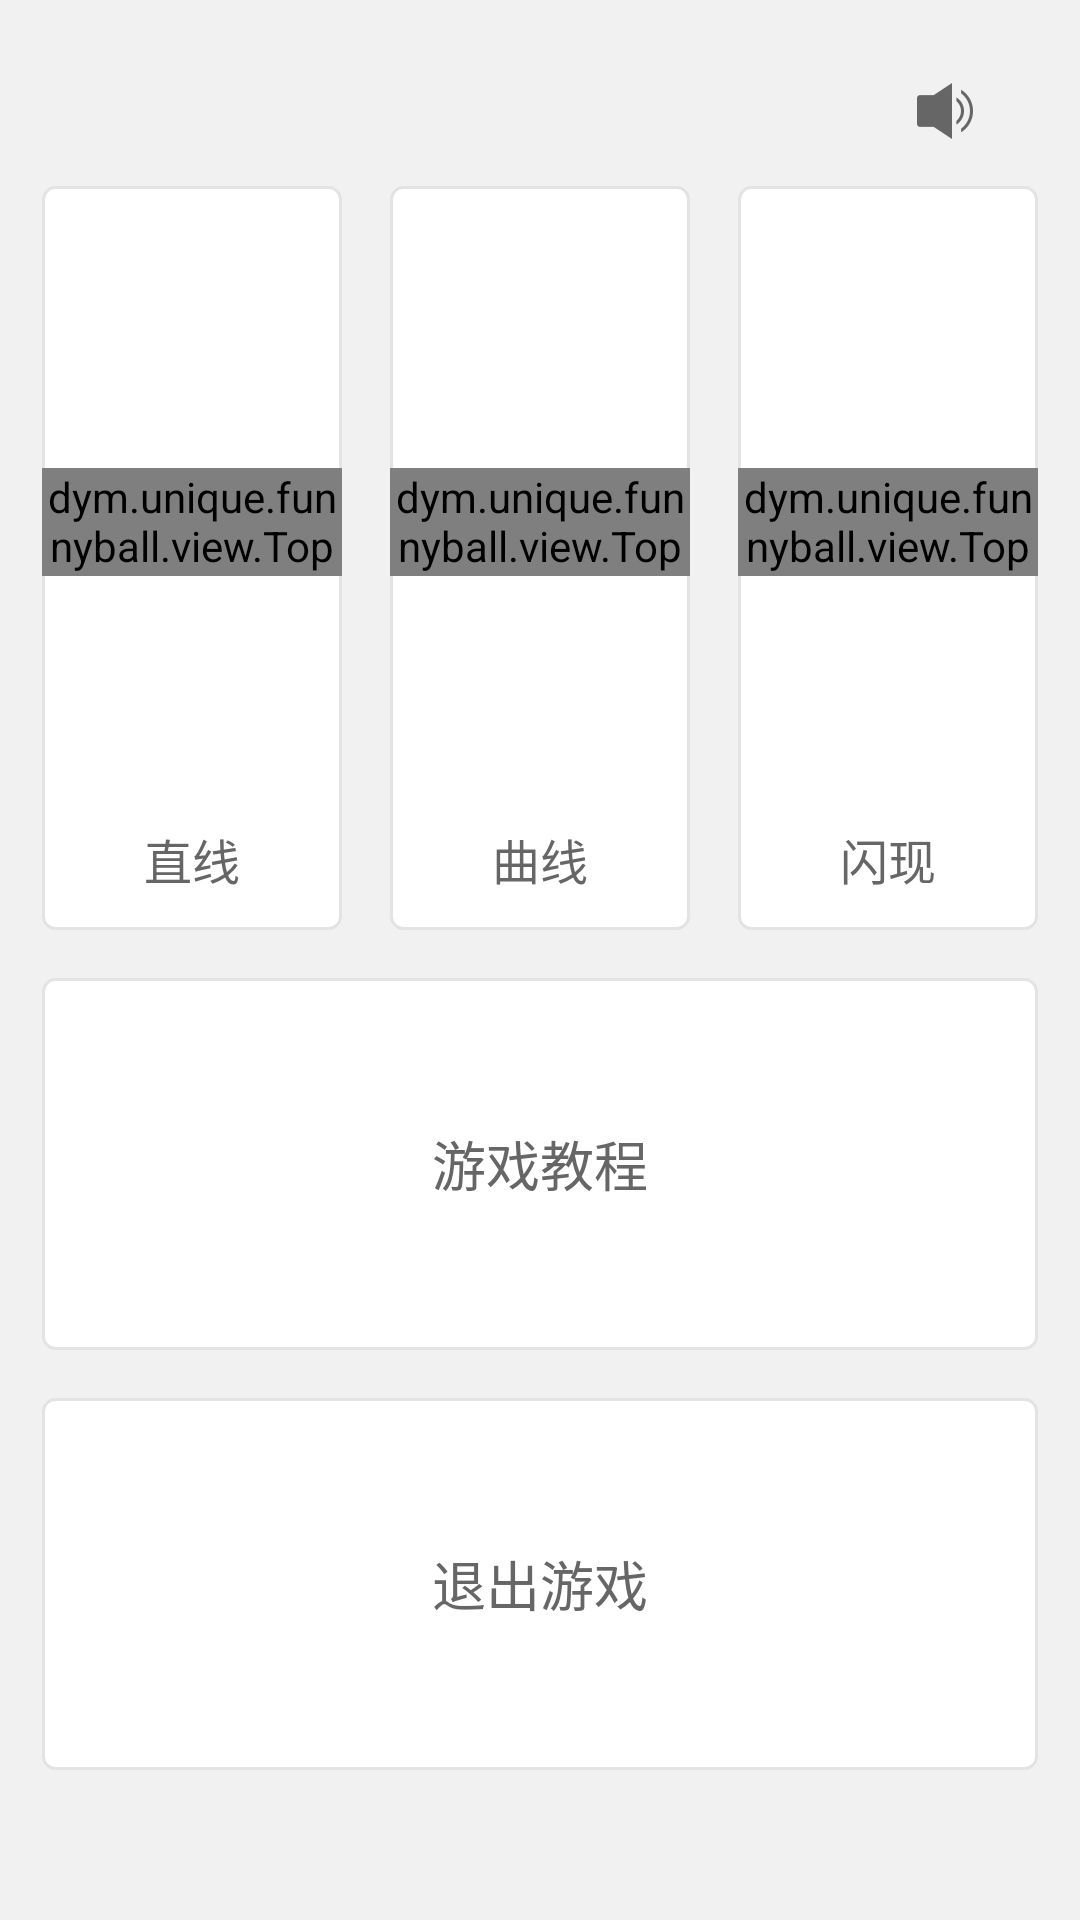

Where icons sit on this 1080px x 1920px app screen, as (x1, y1, x2, y2):
voice: (917, 83, 973, 139)
